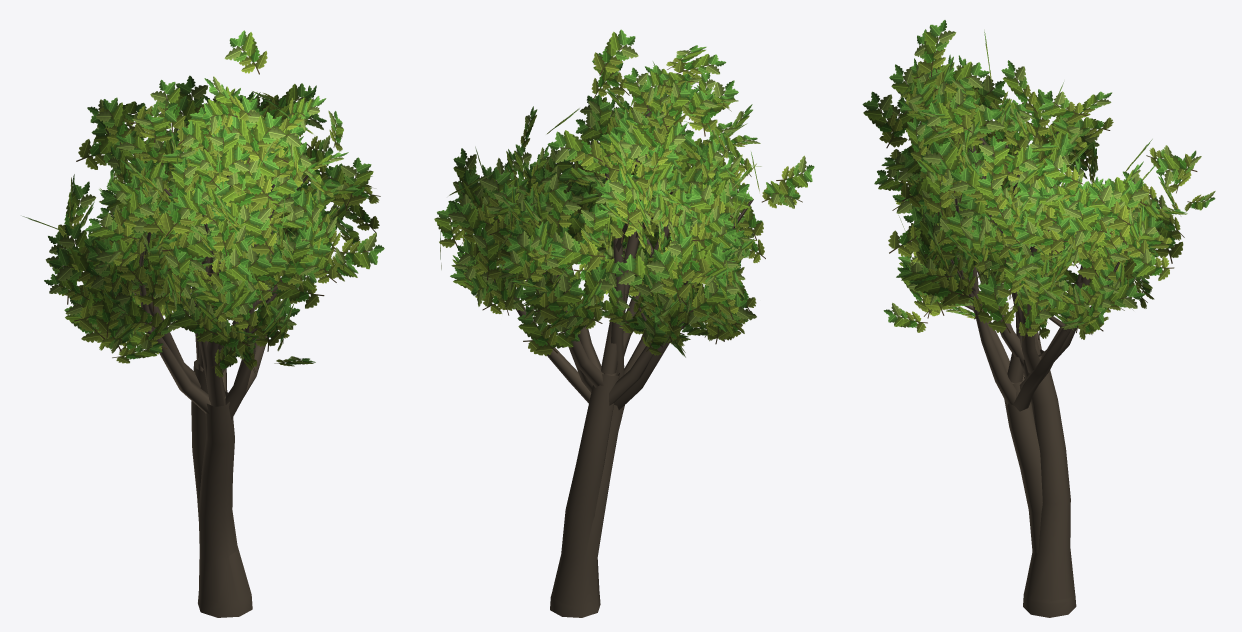
File: oak.glb
3 renders of one model, left to right at view 1: azimuth 30°, elevation 25°; view 2: azimuth 150°, elevation 25°; view 3: azimuth 270°, elevation 25°, orthographic. The views are drawn at different scales.
Parts seen in each view (by area): view 1: OakA_Leaves, OakB_Leaves, OakA_Wood, OakB_Wood; view 2: OakB_Leaves, OakA_Leaves, OakB_Wood, OakA_Wood; view 3: OakA_Leaves, OakB_Leaves, OakB_Wood, OakA_Wood.
Boxes of the visible parts, x1,y1,x2,y2 form: OakA_Leaves: (44,79,384,377); OakB_Leaves: (22,30,373,299); OakA_Wood: (139,157,307,616); OakB_Wood: (131,163,308,617); OakB_Leaves: (449,29,814,356); OakA_Leaves: (434,65,762,357); OakB_Wood: (551,94,753,617); OakA_Wood: (494,111,692,616); OakA_Leaves: (874,58,1215,340); OakB_Leaves: (862,20,1184,308); OakB_Wood: (950,99,1090,617); OakA_Wood: (950,132,1151,617).
Size of the model in its own units: 9.38 by 14.89 by 8.85.
2 materials, 1 textured.
